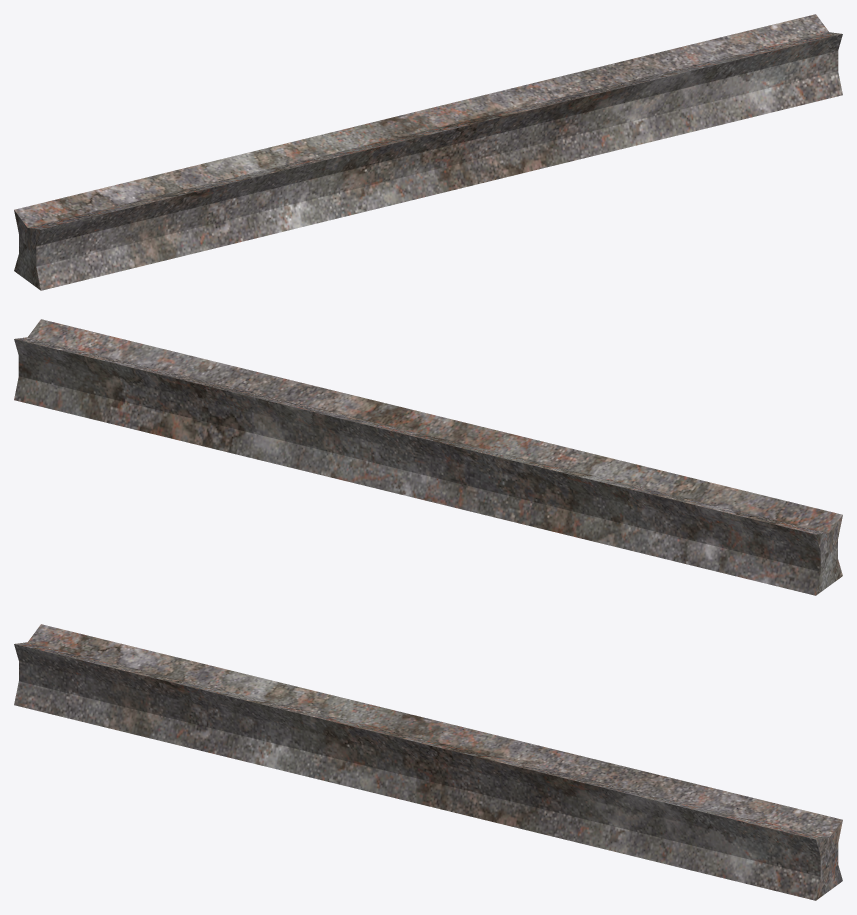
File: Rail.fbx
The picture shows the model from 3 angles, top to bottom: view 1: azimuth 30°, elevation 25°; view 2: azimuth 150°, elevation 25°; view 3: azimuth 330°, elevation 25°; orthographic projection.
Visible parts, largest first — view 1: Rail; view 2: Rail; view 3: Rail.
Boxes of the visible parts, x1,y1,x2,y2 form: Rail: (14,14,842,290); Rail: (14,319,842,595); Rail: (14,624,842,900).
Size of the model in its own units: 200 by 14.59 by 11.71.
Materials: 1 (1 with a texture image).
